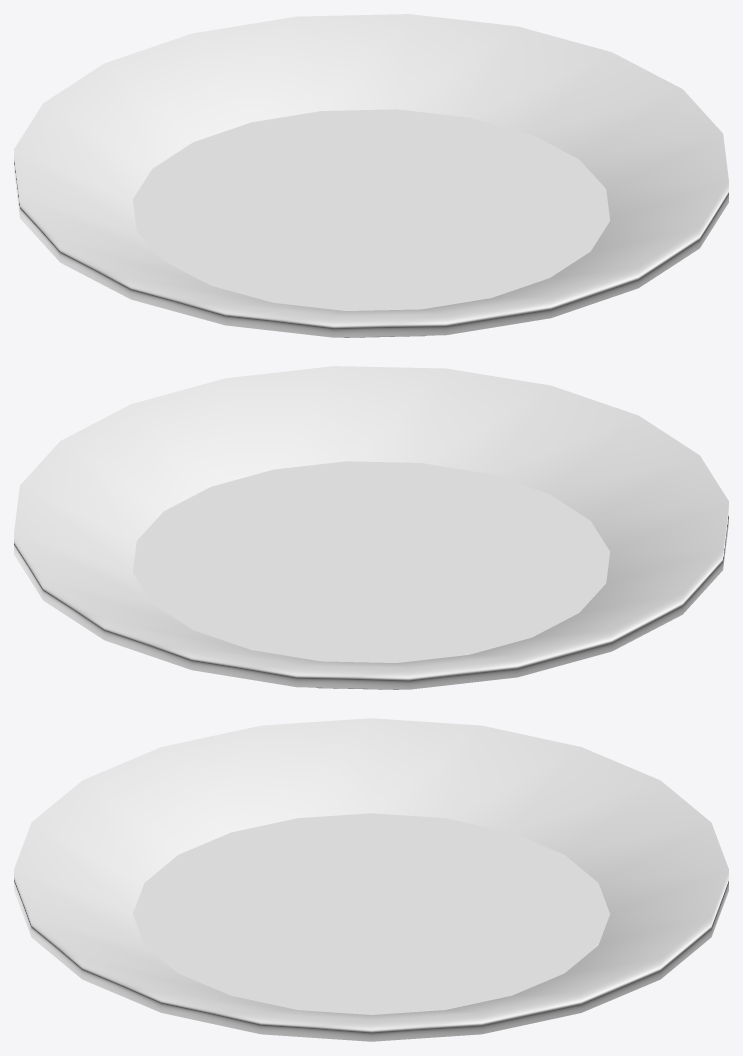
File: plate.fbx
The picture shows the model from 3 angles, top to bottom: view 1: azimuth 30°, elevation 25°; view 2: azimuth 150°, elevation 25°; view 3: azimuth 270°, elevation 25°; orthographic projection.
Visible parts, largest first — view 1: pCylinder1; view 2: pCylinder1; view 3: pCylinder1.
Part boxes in pixels (x1,y1,x2,y2): pCylinder1: (14, 14, 728, 337); pCylinder1: (14, 366, 728, 689); pCylinder1: (14, 718, 728, 1041).
Size of the model in its own units: 8.8 by 0.8723 by 8.8.
1 material, 1 textured.
